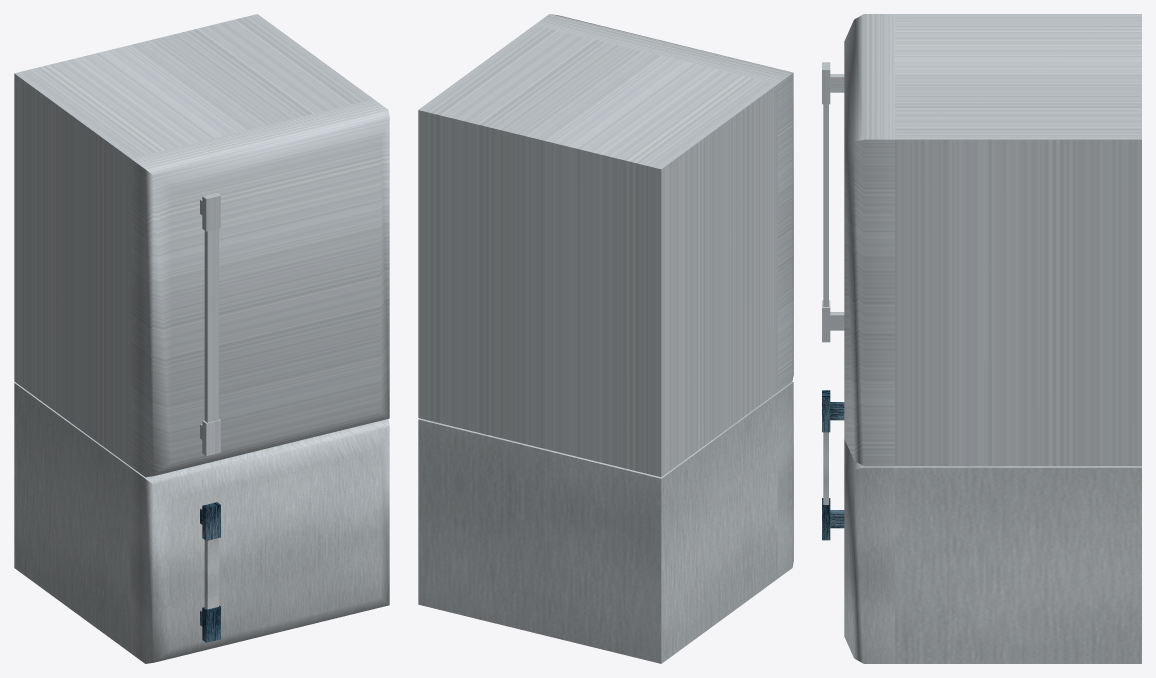
Rendered from Nevera_L.fbx.
The picture shows the model from 3 angles, left to right: view 1: azimuth 30°, elevation 25°; view 2: azimuth 150°, elevation 25°; view 3: azimuth 270°, elevation 25°; orthographic projection. The views are drawn at different scales.
Visible parts, largest first — view 1: Nevera_L_Puerta_Arriba, Nevera_L_Arriba, Nevera_L_Puerta_Abajo, Nevera_L_Abajo, Nevera_L_Tirador_Arriba, Nevera_L_Tirador_Abajo; view 2: Nevera_L_Arriba, Nevera_L_Abajo, Nevera_L_Puerta_Arriba, Nevera_L_Puerta_Abajo; view 3: Nevera_L_Arriba, Nevera_L_Abajo, Nevera_L_Puerta_Arriba, Nevera_L_Puerta_Abajo, Nevera_L_Tirador_Arriba, Nevera_L_Tirador_Abajo.
Boxes of the visible parts, <box> form: Nevera_L_Puerta_Arriba: <box>130,99,389,477</box>; Nevera_L_Arriba: <box>14,14,373,466</box>; Nevera_L_Puerta_Abajo: <box>130,419,389,663</box>; Nevera_L_Abajo: <box>14,382,131,652</box>; Nevera_L_Tirador_Arriba: <box>200,193,220,455</box>; Nevera_L_Tirador_Abajo: <box>200,502,220,642</box>; Nevera_L_Arriba: <box>418,25,777,477</box>; Nevera_L_Abajo: <box>418,393,777,663</box>; Nevera_L_Puerta_Arriba: <box>535,14,793,391</box>; Nevera_L_Puerta_Abajo: <box>776,382,793,578</box>; Nevera_L_Arriba: <box>895,14,1141,466</box>; Nevera_L_Abajo: <box>895,466,1141,663</box>; Nevera_L_Puerta_Arriba: <box>844,14,895,466</box>; Nevera_L_Puerta_Abajo: <box>844,439,895,663</box>; Nevera_L_Tirador_Arriba: <box>822,62,844,342</box>; Nevera_L_Tirador_Abajo: <box>822,390,844,540</box>.
Bounding box in the file's own units: 10 × 19.43 × 10.74.
